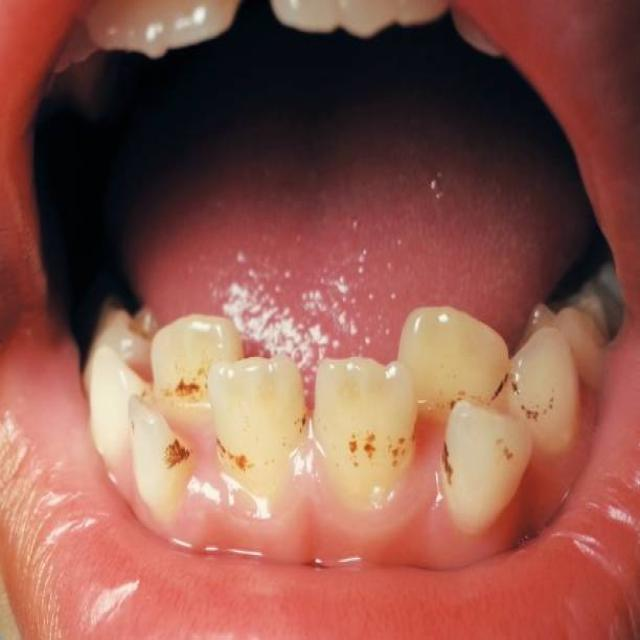Tooth Discoloration: (334, 420, 420, 465), (492, 365, 558, 423), (214, 430, 252, 471), (163, 432, 201, 472), (436, 429, 456, 494), (491, 430, 522, 471), (173, 363, 208, 398)
